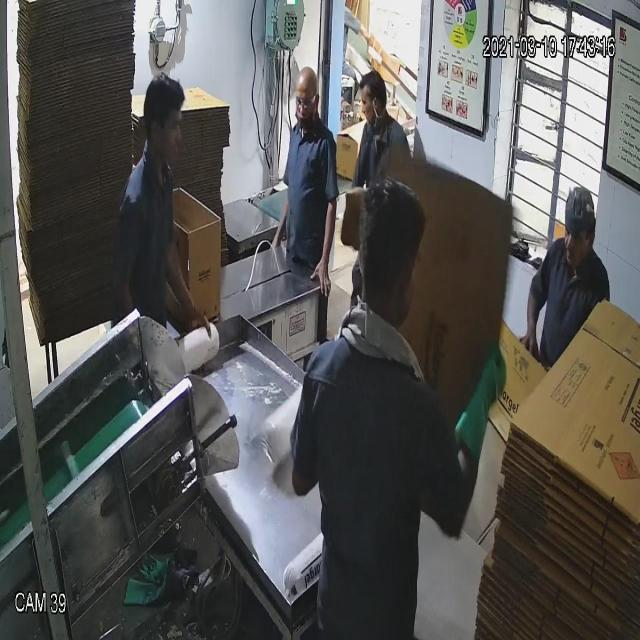gloves: (450, 348, 520, 477)
no-gloves: (160, 222, 221, 348), (307, 188, 343, 306), (521, 278, 555, 382)
